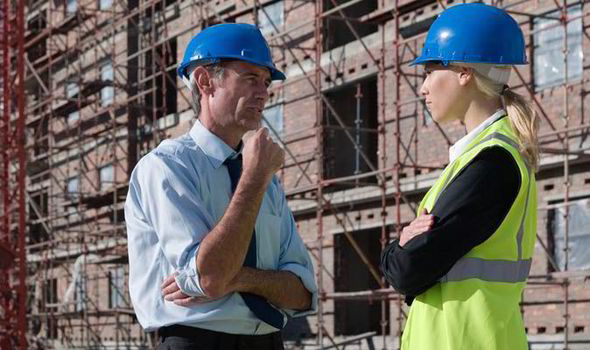Helmet: (408, 3, 530, 68), (173, 20, 290, 85)
